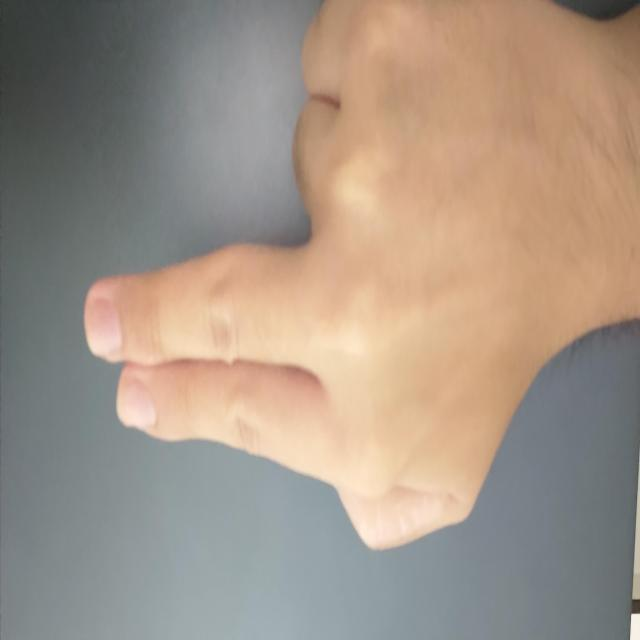H: (0, 86, 557, 640)
